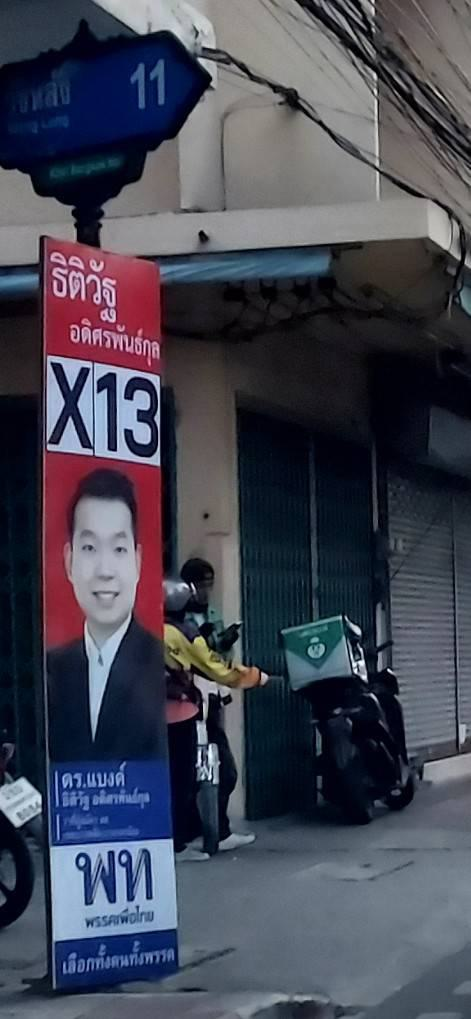Banner: (41, 240, 182, 985)
